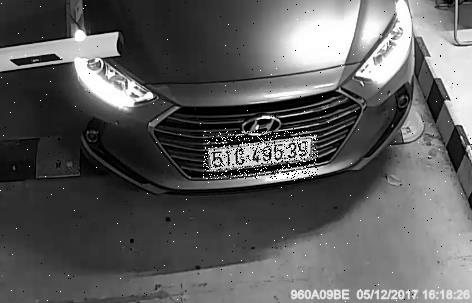License-plate: (205, 132, 320, 180)
